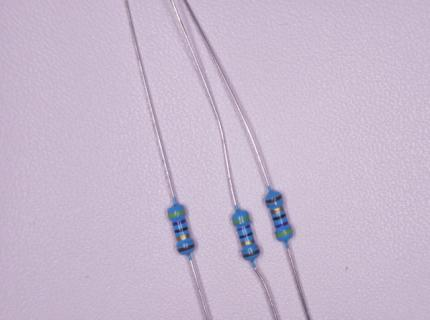Gold band: (176, 233, 191, 241), (270, 206, 285, 214), (241, 238, 255, 246)
Violet band: (172, 218, 186, 226), (275, 221, 288, 228), (237, 225, 251, 231)
Yellow band: (275, 227, 293, 237), (168, 210, 185, 219), (232, 215, 250, 223)
